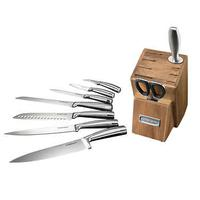knife: (4, 74, 130, 170)
